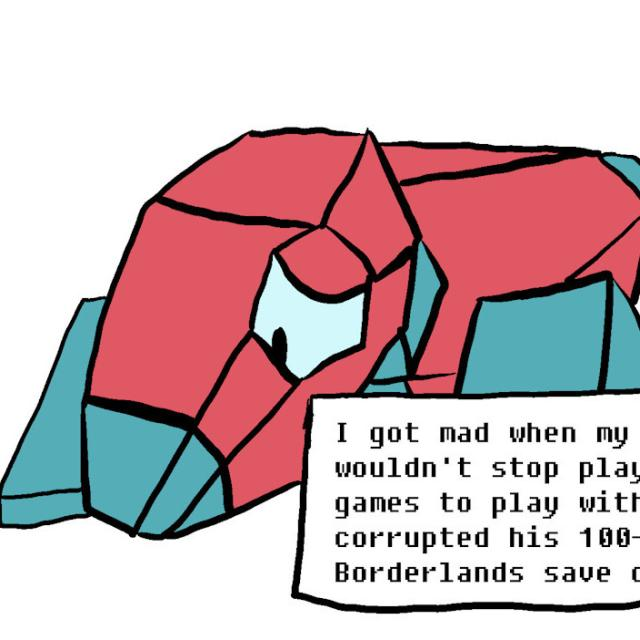Porygon: (55, 115, 640, 413)
